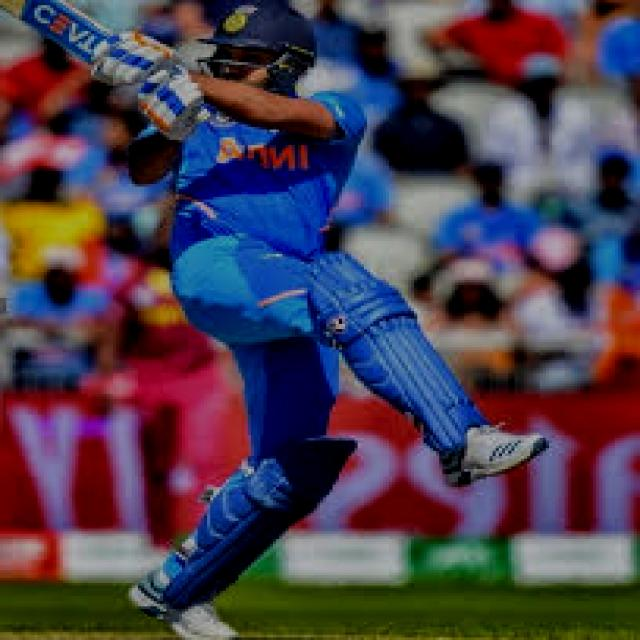toe: (0, 0, 58, 19)
